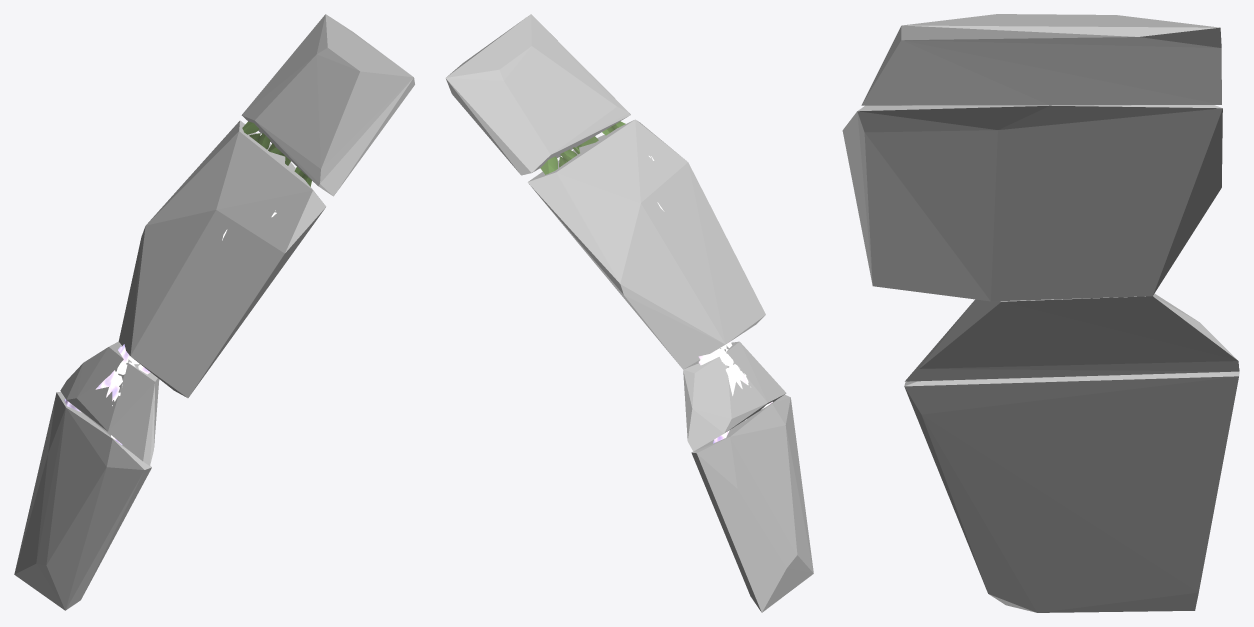
Rendered from SM_Env_Vines_Preset_Roof_Convex_02.fbx.
3 renders of one model, left to right at view 1: azimuth 30°, elevation 25°; view 2: azimuth 150°, elevation 25°; view 3: azimuth 270°, elevation 25°, orthographic. The views are drawn at different scales.
Visible parts, largest first — view 1: SM_Env_Vines_Preset_Roof_Convex_02_ConvexHulls, SM_Env_Vines_Preset_Roof_Convex_02; view 2: SM_Env_Vines_Preset_Roof_Convex_02_ConvexHulls, SM_Env_Vines_Preset_Roof_Convex_02; view 3: SM_Env_Vines_Preset_Roof_Convex_02_ConvexHulls.
Boxes of the visible parts, x1,y1,x2,y2 form: SM_Env_Vines_Preset_Roof_Convex_02_ConvexHulls: (14,14,414,610); SM_Env_Vines_Preset_Roof_Convex_02: (64,121,311,444); SM_Env_Vines_Preset_Roof_Convex_02_ConvexHulls: (445,14,813,612); SM_Env_Vines_Preset_Roof_Convex_02: (540,121,772,443); SM_Env_Vines_Preset_Roof_Convex_02_ConvexHulls: (842,14,1239,612).
Size of the model in its own units: 166 by 96.96 by 233.
3 materials, 2 textured.
